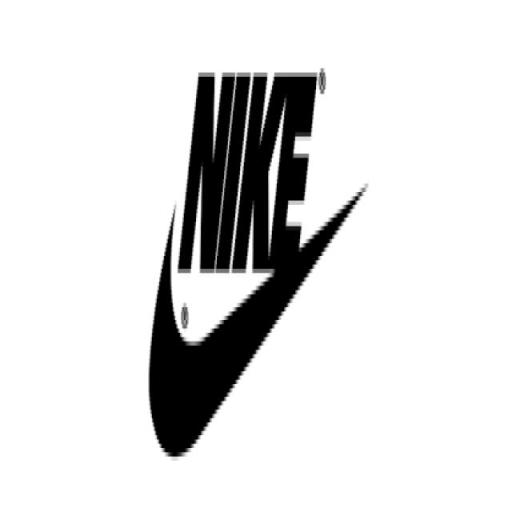Nike: (148, 213, 342, 461), (176, 64, 320, 286)
